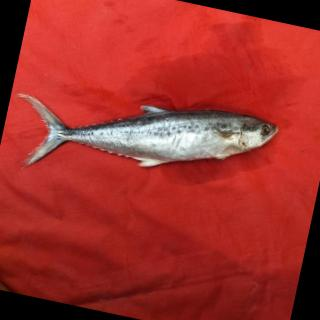Ikan: (5, 62, 294, 228)
